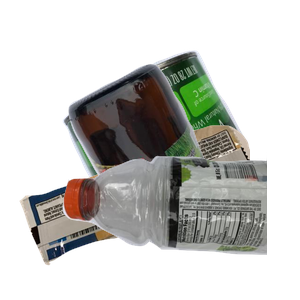glass: (66, 61, 300, 241)
metal: (60, 48, 300, 228)
plastic: (60, 152, 300, 300)
trash: (17, 123, 257, 300)
